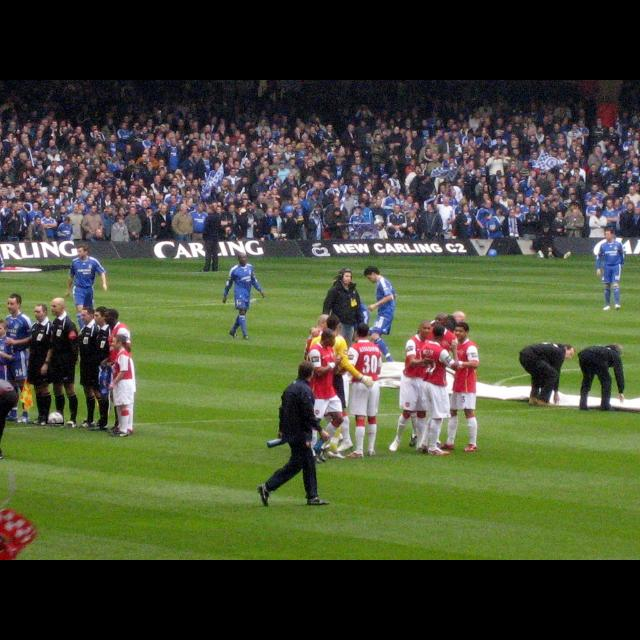Football: (46, 410, 64, 424)
